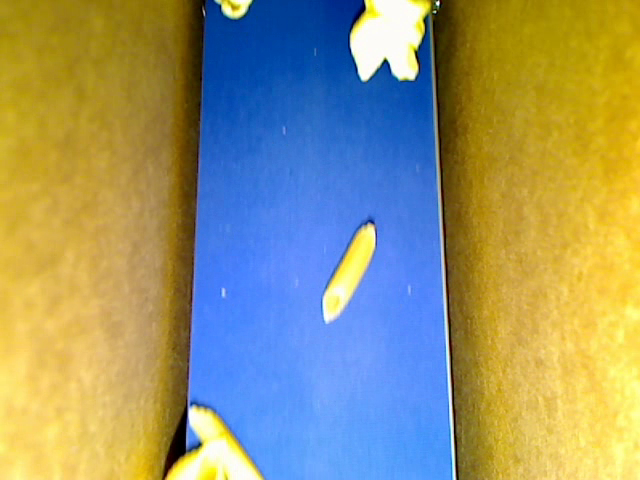penne: (188, 404, 264, 479), (322, 221, 377, 323)
shell: (163, 439, 226, 479)
